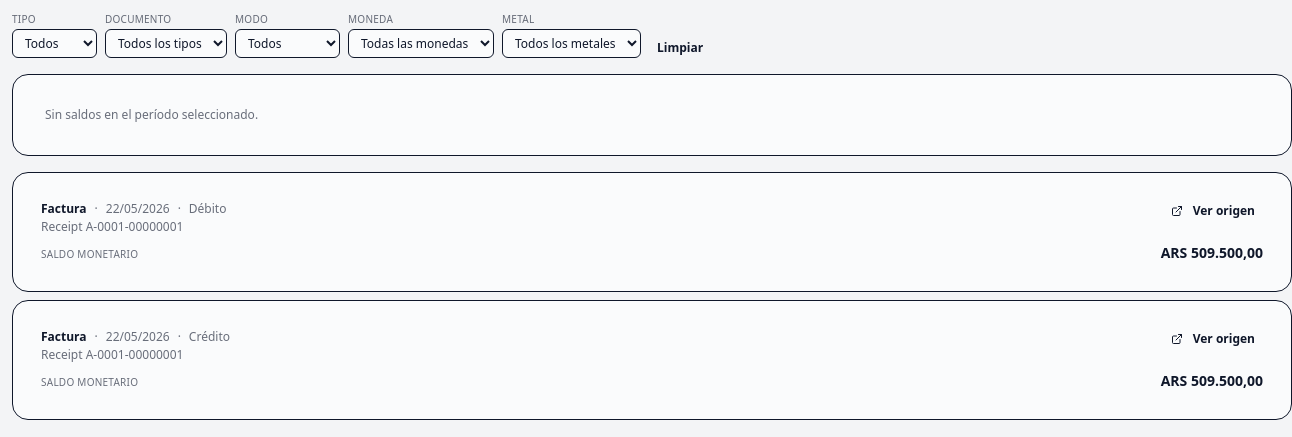
EntityBalanceMovementsView — filtros (Fase 4.4) › filtro por kind=CREDIT oculta los DEBIT
expect the element with test id "movement-card-u-d" is shown: met, box [12,172,1291,292]
expect the element with test id "movement-card-u-c" is shown: met, box [12,300,1291,420]
Select "Créditos" in the dropdown with test id "filter-kind": (54, 44) [12,29,97,58]
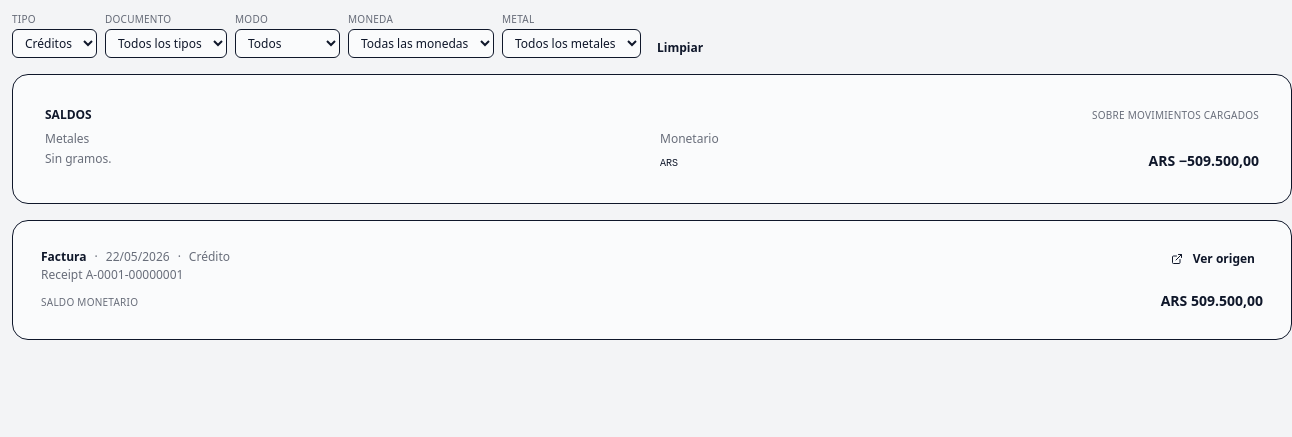
expect the element with test id "movement-card-u-c" is shown: met, box [12,220,1291,340]
expect the element with test id "movement-card-u-d" is gone: met
